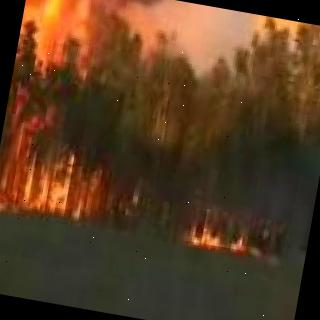fire: (0, 0, 158, 228), (179, 200, 276, 262)
